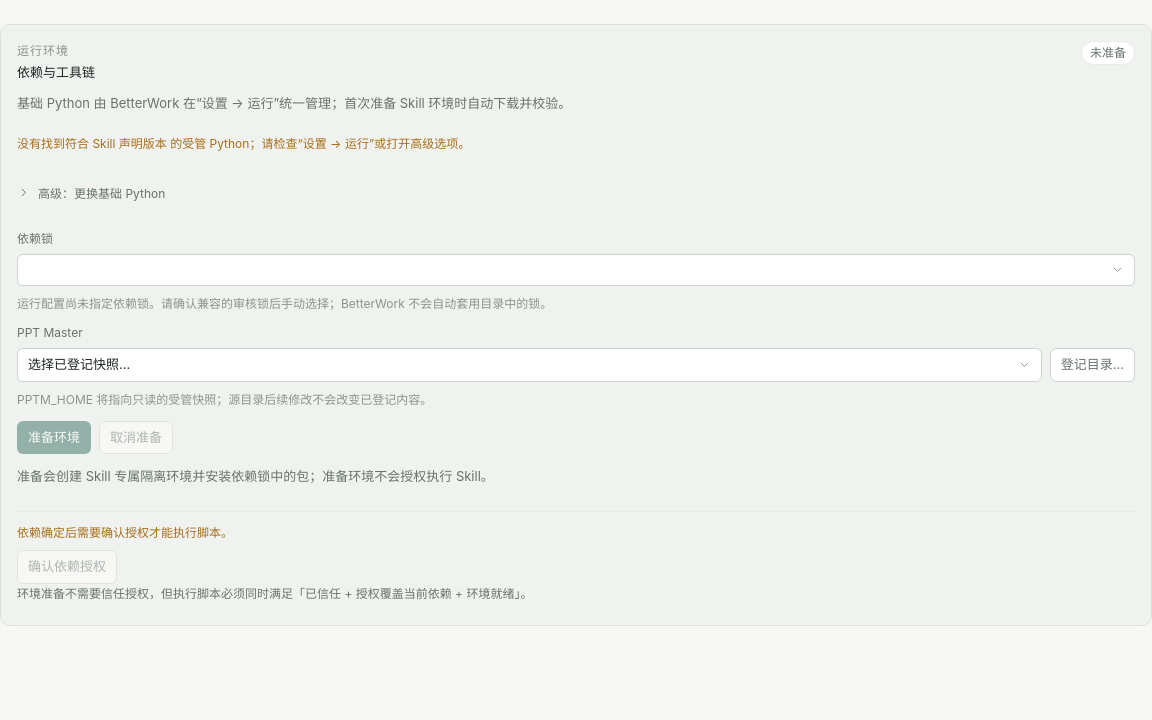
Test: DependencyPanel › 只为 Skill 声明的外部工具链展示快照选择，并显示快照身份
Step 1. Click the button named "PPT Master" → (79, 364), box [17,348,1042,382]
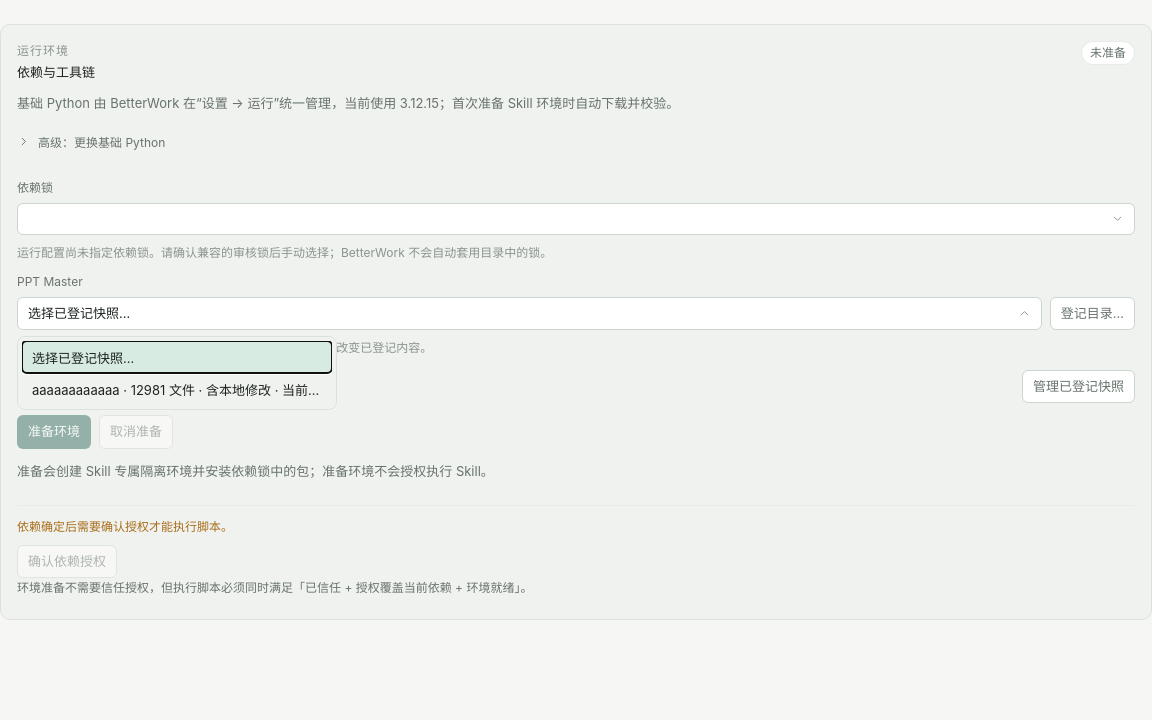
Step 2. Click the menu item "aaaaaaaaaaaa · 12981 文件 · 含本地修改 · 当前授权 1 · 历史 Run 2" → (226, 390), box [32,382,419,398]
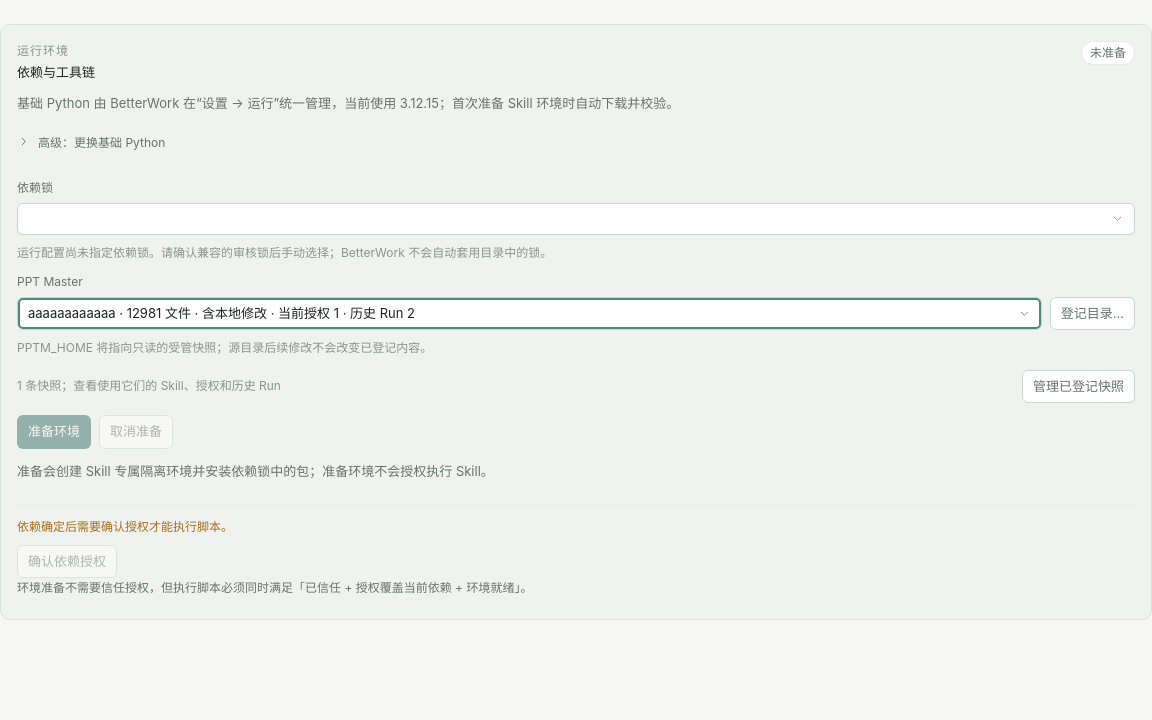
Check: the button named "PPT Master" shows "12981 文件 · 含本地修改", box [17,297,1042,330]
